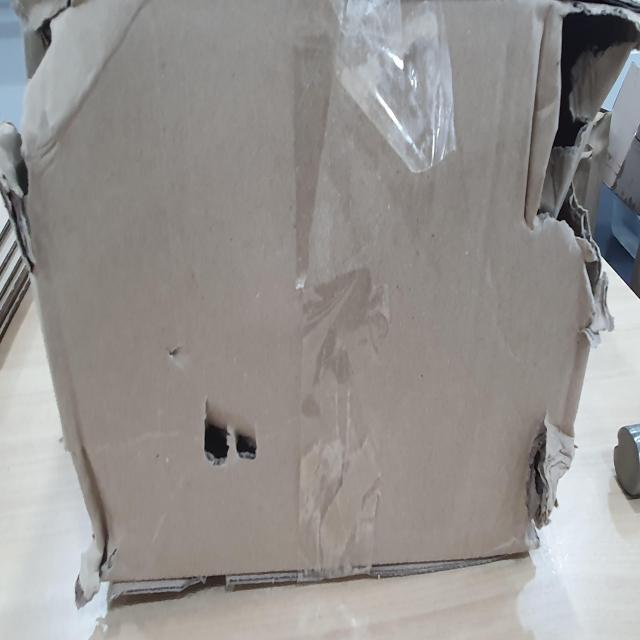damaged: (529, 0, 634, 301), (520, 412, 579, 558), (197, 388, 262, 479)
